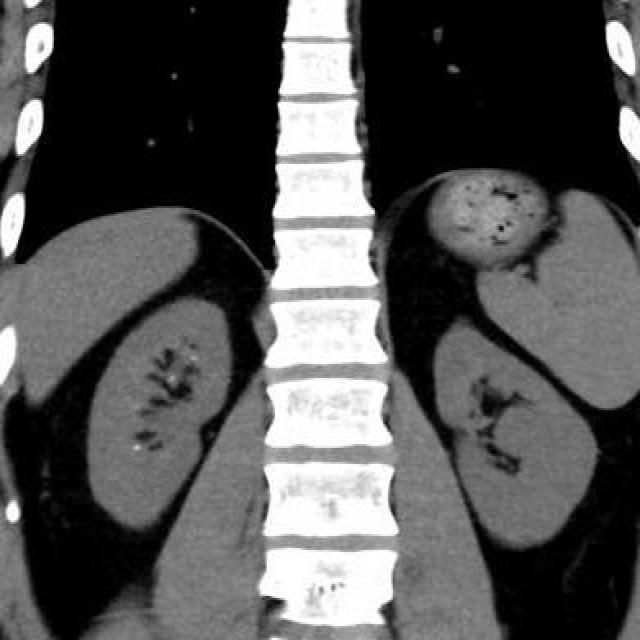Tas_Var: (130, 441, 142, 451), (187, 353, 199, 363), (166, 373, 178, 383)
